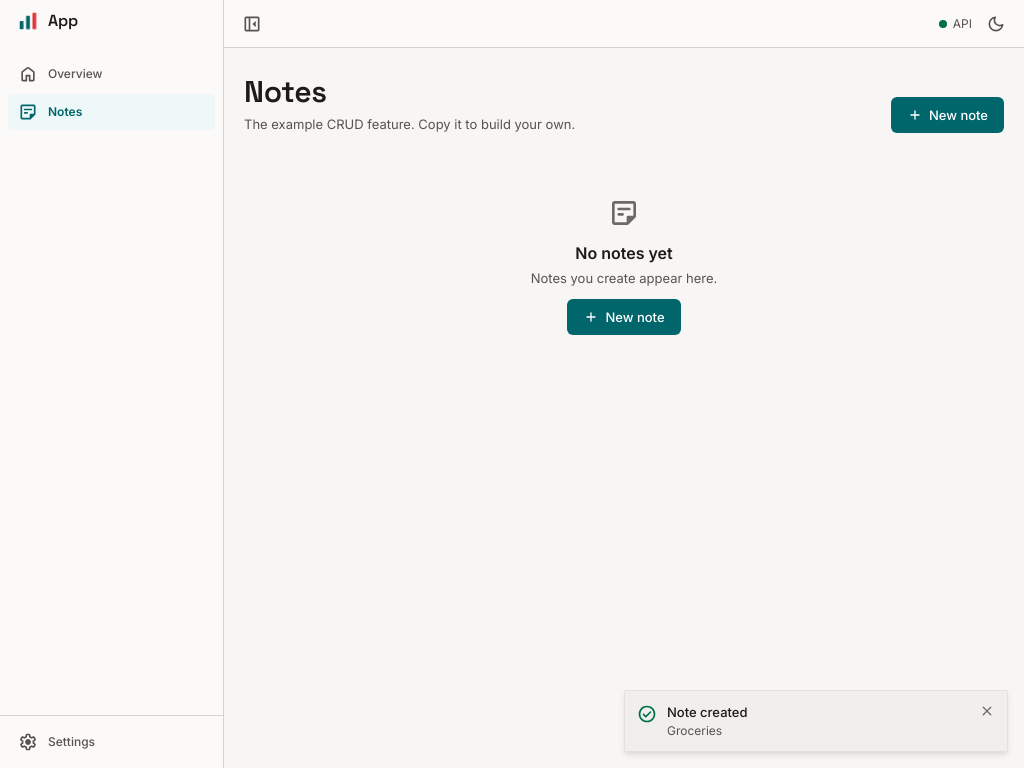
notes page › shows server field errors under the field
Click the 1st button "New note": (947, 115) x1=891 y1=97 x2=1004 y2=133
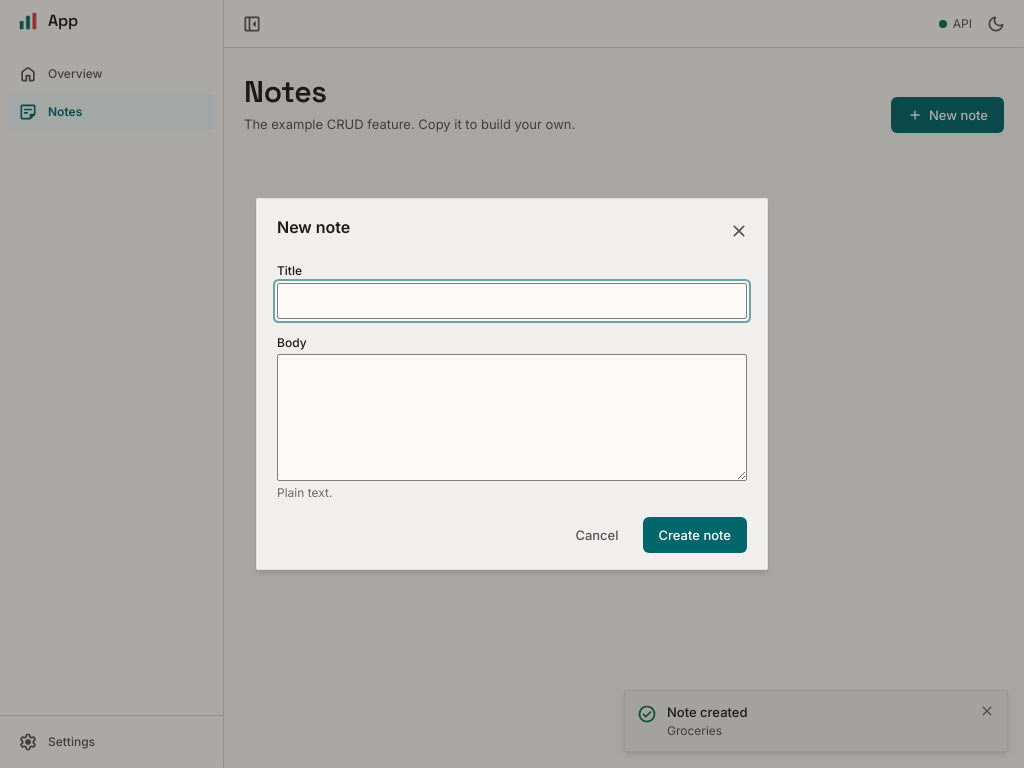
In the field labelled "Title": (512, 301) x1=277 y1=283 x2=747 y2=319, type "Dup"
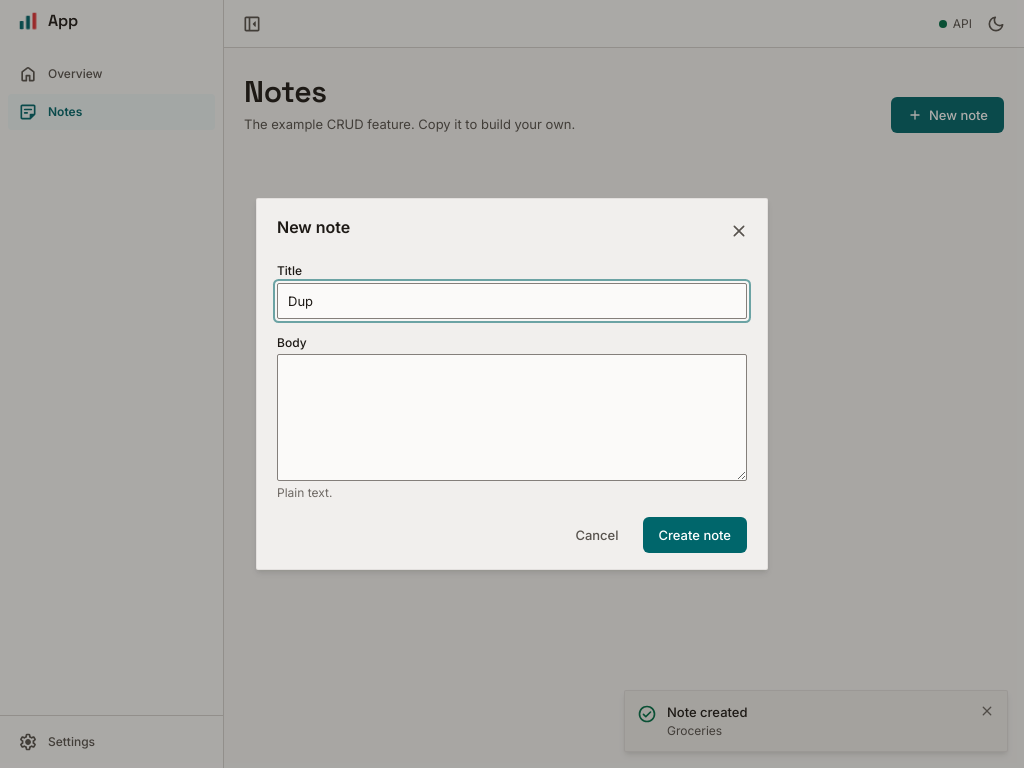
Click the button "Create note": (695, 535) x1=642 y1=517 x2=747 y2=553
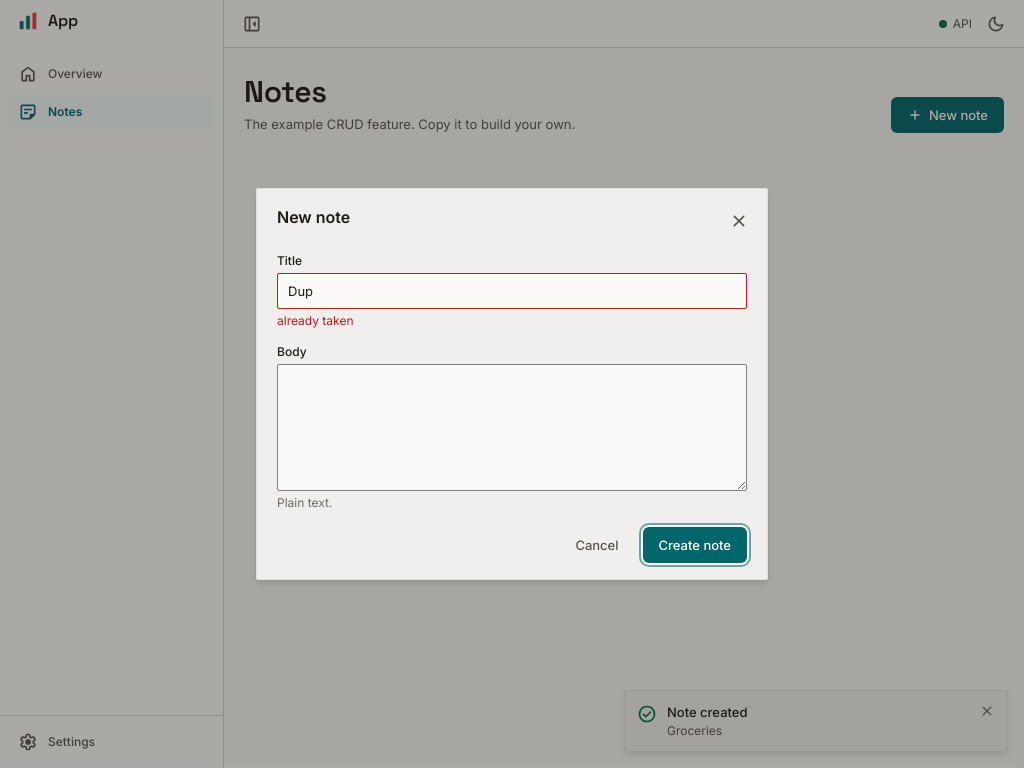
Check: the text "already taken" is shown, box x1=277 y1=313 x2=354 y2=328
